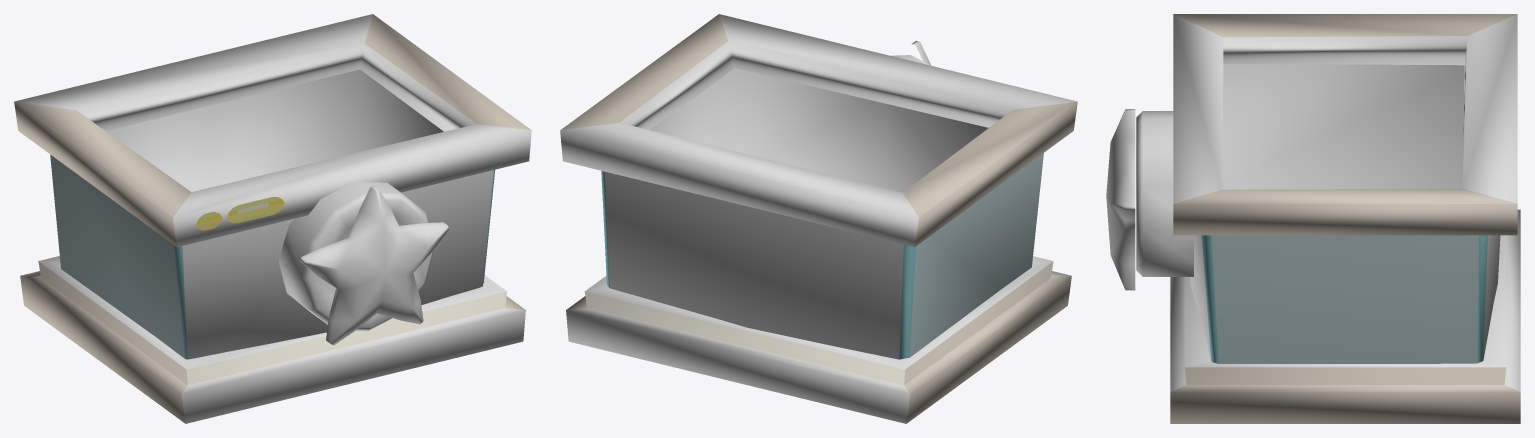
File: trunkProgression.glb
3 views of the same model, side by side, from view 1: azimuth 30°, elevation 25°; view 2: azimuth 150°, elevation 25°; view 3: azimuth 270°, elevation 25° (orthographic). The views are drawn at different scales.
Parts seen in each view (by area): view 1: trunkProgression; view 2: trunkProgression; view 3: trunkProgression.
Boxes of the visible parts, x1,y1,x2,y2 form: trunkProgression: (14, 14, 531, 423); trunkProgression: (560, 14, 1077, 423); trunkProgression: (1106, 14, 1520, 423).
Bounding box in the file's own units: 0.6408 × 0.3547 × 0.5912.
